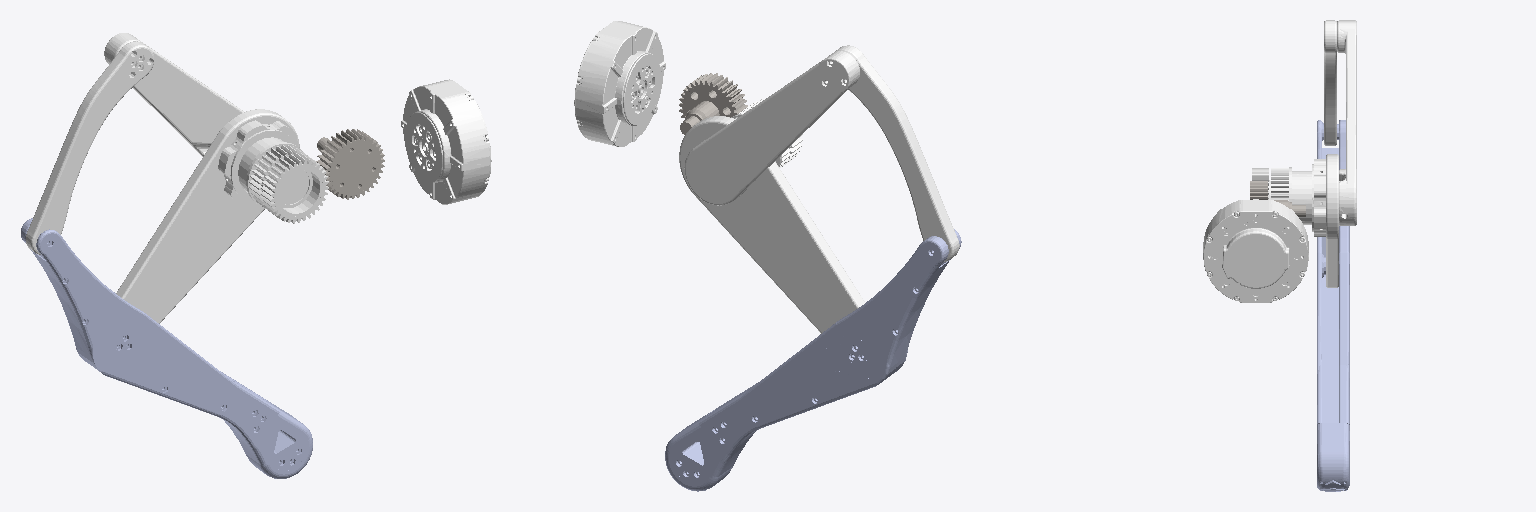
The robot description file, URDF, robot "mos_leg52":
<?xml version="1.0" encoding="utf-8"?>
<!-- This URDF was automatically created by SolidWorks to URDF Exporter! Originally created by Stephen Brawner (brawner@gmail.com) 
     Commit Version: 1.6.0-4-g7f85cfe  Build Version: 1.6.7995.38578
     For more information, please see http://wiki.ros.org/sw_urdf_exporter -->
<robot
  name="mos_leg52">
  <link
    name="hip_motor">
    <inertial>
      <origin
        xyz="0.0194551261869284 -0.0930459309938858 -0.146452078309495"
        rpy="0 0 0" />
      <mass
        value="0.193691933258788" />
      <inertia
        ixx="0.000212643438550046"
        ixy="2.52842936395281E-08"
        ixz="-3.06353262610582E-08"
        iyy="0.000111361590772375"
        iyz="-3.62933690347613E-07"
        izz="0.000115174940649883" />
    </inertial>
    <visual>
      <origin
        xyz="0 0 0"
        rpy="0 0 0" />
      <geometry>
        <mesh
          filename="package://mos_leg52/meshes/hip_motor.STL" />
      </geometry>
      <material
        name="">
        <color
          rgba="1 1 1 1" />
      </material>
    </visual>
    <collision>
      <origin
        xyz="0 0 0"
        rpy="0 0 0" />
      <geometry>
        <mesh
          filename="package://mos_leg52/meshes/hip_motor.STL" />
      </geometry>
    </collision>
  </link>
  <link
    name="hip_body">
    <inertial>
      <origin
        xyz="0.113371883083302 -0.00893173409427045 -0.000142723342939716"
        rpy="0 0 0" />
      <mass
        value="0.994407565035914" />
      <inertia
        ixx="0.000920741947553536"
        ixy="5.94775043380676E-08"
        ixz="-1.41358307758304E-07"
        iyy="0.00266050233065784"
        iyz="-3.88325839119094E-07"
        izz="0.00208351372160785" />
    </inertial>
    <visual>
      <origin
        xyz="0 0 0"
        rpy="0 0 0" />
      <geometry>
        <mesh
          filename="package://mos_leg52/meshes/hip_body.STL" />
      </geometry>
      <material
        name="">
        <color
          rgba="1 1 1 1" />
      </material>
    </visual>
    <collision>
      <origin
        xyz="0 0 0"
        rpy="0 0 0" />
      <geometry>
        <mesh
          filename="package://mos_leg52/meshes/hip_body.STL" />
      </geometry>
    </collision>
  </link>
  <joint
    name="hip_joint"
    type="revolute">
    <origin
      xyz="-0.232 -0.093114 -0.14635"
      rpy="0 0 0" />
    <parent
      link="hip_motor" />
    <child
      link="hip_body" />
    <axis
      xyz="-1 0 0" />
    <limit
      lower="-0.5"
      upper="0.5"
      effort="30"
      velocity="3" />
  </joint>
  <link
    name="front_gear">
    <inertial>
      <origin
        xyz="-8.19205814295287E-14 -0.0390538870170614 7.99638133486269E-14"
        rpy="0 0 0" />
      <mass
        value="0.0385237466196058" />
      <inertia
        ixx="9.47389810508479E-06"
        ixy="7.24105232570262E-22"
        ixz="1.58246759764786E-21"
        iyy="1.02723402754827E-05"
        iyz="1.41942209438922E-21"
        izz="9.47389810508481E-06" />
    </inertial>
    <visual>
      <origin
        xyz="0 0 0"
        rpy="0 0 0" />
      <geometry>
        <mesh
          filename="package://mos_leg52/meshes/front_gear.STL" />
      </geometry>
      <material
        name="">
        <color
          rgba="0.776470588235294 0.756862745098039 0.737254901960784 1" />
      </material>
    </visual>
    <collision>
      <origin
        xyz="0 0 0"
        rpy="0 0 0" />
      <geometry>
        <mesh
          filename="package://mos_leg52/meshes/front_gear.STL" />
      </geometry>
    </collision>
  </link>
  <joint
    name="font_gear"
    type="revolute">
    <origin
      xyz="0.166 0.04615 0"
      rpy="0 0 0" />
    <parent
      link="hip_body" />
    <child
      link="front_gear" />
    <axis
      xyz="0 1 0" />
    <limit
      lower="-0.5"
      upper="0.5"
      effort="0"
      velocity="0" />
  </joint>
  <link
    name="rear_gear">
    <inertial>
      <origin
        xyz="-1.11022302462516E-15 -0.0303984035950163 1.79856129989275E-14"
        rpy="0 0 0" />
      <mass
        value="0.0482357390578153" />
      <inertia
        ixx="1.0744281957417E-05"
        ixy="2.99541972605816E-21"
        ixz="5.71319065723848E-21"
        iyy="1.25106445892168E-05"
        iyz="8.50480753893855E-22"
        izz="1.0744281957417E-05" />
    </inertial>
    <visual>
      <origin
        xyz="0 0 0"
        rpy="0 0 0" />
      <geometry>
        <mesh
          filename="package://mos_leg52/meshes/rear_gear.STL" />
      </geometry>
      <material
        name="">
        <color
          rgba="0.792156862745098 0.819607843137255 0.933333333333333 1" />
      </material>
    </visual>
    <collision>
      <origin
        xyz="0 0 0"
        rpy="0 0 0" />
      <geometry>
        <mesh
          filename="package://mos_leg52/meshes/rear_gear.STL" />
      </geometry>
    </collision>
  </link>
  <joint
    name="rear_gear"
    type="revolute">
    <origin
      xyz="0.066 0.04615 0"
      rpy="0 0 0" />
    <parent
      link="hip_body" />
    <child
      link="rear_gear" />
    <axis
      xyz="0 1 0" />
    <limit
      lower="-0.5"
      upper="0.5"
      effort="0"
      velocity="0" />
  </joint>
  <link
    name="thigh">
    <inertial>
      <origin
        xyz="-0.0334363727266321 -0.00646320958539248 -0.0337832583179401"
        rpy="0 0 0" />
      <mass
        value="0.218415882803044" />
      <inertia
        ixx="0.000380276473573837"
        ixy="1.02303283100001E-05"
        ixz="-0.000289516209462419"
        iyy="0.000728917906995597"
        iyz="1.03364673598469E-05"
        izz="0.000374299610045337" />
    </inertial>
    <visual>
      <origin
        xyz="0 0 0"
        rpy="0 0 0" />
      <geometry>
        <mesh
          filename="package://mos_leg52/meshes/thigh.STL" />
      </geometry>
      <material
        name="">
        <color
          rgba="1 1 1 1" />
      </material>
    </visual>
    <collision>
      <origin
        xyz="0 0 0"
        rpy="0 0 0" />
      <geometry>
        <mesh
          filename="package://mos_leg52/meshes/thigh.STL" />
      </geometry>
    </collision>
  </link>
  <joint
    name="thigh_gear"
    type="revolute">
    <origin
      xyz="0.116 0.06815 -0.0101"
      rpy="0 0 0" />
    <parent
      link="hip_body" />
    <child
      link="thigh" />
    <axis
      xyz="0 -1 0" />
    <limit
      lower="-1"
      upper="1"
      effort="30"
      velocity="3" />
  </joint>
  <link
    name="shank">
    <inertial>
      <origin
        xyz="0.0501963925591364 -0.014021075126307 -0.0375583634802569"
        rpy="0 0 0" />
      <mass
        value="0.286222361372181" />
      <inertia
        ixx="0.000651861312520624"
        ixy="-9.07604969125879E-07"
        ixz="0.000598089415604459"
        iyy="0.00130942075503528"
        iyz="8.1610237014393E-07"
        izz="0.00067312796935984" />
    </inertial>
    <visual>
      <origin
        xyz="0 0 0"
        rpy="0 0 0" />
      <geometry>
        <mesh
          filename="package://mos_leg52/meshes/shank.STL" />
      </geometry>
      <material
        name="">
        <color
          rgba="0.792156862745098 0.819607843137255 0.933333333333333 1" />
      </material>
    </visual>
    <collision>
      <origin
        xyz="0 0 0"
        rpy="0 0 0" />
      <geometry>
        <mesh
          filename="package://mos_leg52/meshes/shank.STL" />
      </geometry>
    </collision>
  </link>
  <joint
    name="shank_middle"
    type="continuous">
    <origin
      xyz="-0.1228 0.017496 -0.13116"
      rpy="0 0 0" />
    <parent
      link="thigh" />
    <child
      link="shank" />
    <axis
      xyz="0 -1 0" />
  </joint>
  <link
    name="shank_gear">
    <inertial>
      <origin
        xyz="-0.0305539081874453 -0.0151800390635337 0.031163163347574"
        rpy="0 0 0" />
      <mass
        value="0.171587734867677" />
      <inertia
        ixx="0.000249660019311512"
        ixy="4.99779954636463E-06"
        ixz="0.000197761556978693"
        iyy="0.000443409187193008"
        iyz="-5.08968268380678E-06"
        izz="0.000243414619824575" />
    </inertial>
    <visual>
      <origin
        xyz="0 0 0"
        rpy="0 0 0" />
      <geometry>
        <mesh
          filename="package://mos_leg52/meshes/shank_gear.STL" />
      </geometry>
      <material
        name="">
        <color
          rgba="1 1 1 1" />
      </material>
    </visual>
    <collision>
      <origin
        xyz="0 0 0"
        rpy="0 0 0" />
      <geometry>
        <mesh
          filename="package://mos_leg52/meshes/shank_gear.STL" />
      </geometry>
    </collision>
  </link>
  <joint
    name="shank_gear"
    type="revolute">
    <origin
      xyz="0.116 0.08715 -0.0101"
      rpy="0 0 0" />
    <parent
      link="hip_body" />
    <child
      link="shank_gear" />
    <axis
      xyz="0 1 0" />
    <limit
      lower="-1"
      upper="1"
      effort="30"
      velocity="3" />
  </joint>
  <link
    name="shank_link">
    <inertial>
      <origin
        xyz="-0.0443711312726687 -0.0128234647134589 -0.0571719050658156"
        rpy="0 0 0" />
      <mass
        value="0.0469428664864404" />
      <inertia
        ixx="9.71589752924468E-05"
        ixy="-3.64701280979704E-07"
        ixz="-5.7991885497864E-05"
        iyy="0.000135916178702011"
        iyz="-4.70048453048693E-07"
        izz="3.99674340458002E-05" />
    </inertial>
    <visual>
      <origin
        xyz="0 0 0"
        rpy="0 0 0" />
      <geometry>
        <mesh
          filename="package://mos_leg52/meshes/shank_link.STL" />
      </geometry>
      <material
        name="">
        <color
          rgba="1 1 1 1" />
      </material>
    </visual>
    <collision>
      <origin
        xyz="0 0 0"
        rpy="0 0 0" />
      <geometry>
        <mesh
          filename="package://mos_leg52/meshes/shank_link.STL" />
      </geometry>
    </collision>
  </link>
  <joint
    name="shank_link"
    type="continuous">
    <origin
      xyz="-0.10965 -0.0060044 0.1115"
      rpy="0 0 0" />
    <parent
      link="shank_gear" />
    <child
      link="shank_link" />
    <axis
      xyz="0 1 0" />
  </joint>
</robot>

--- What the picture shows (computed from the rendered views, not written in the file) ---
3 views of the same robot in one strip: view 1: azimuth 30°, elevation 25°; view 2: azimuth 150°, elevation 25°; view 3: azimuth 270°, elevation 25° (orthographic).
Robot: mos_leg52 — 8 links, 7 joints (5 revolute, 2 continuous); root link hip_motor; default pose: all joints at 0.
Links seen in each view (by area): view 1: shank, thigh, shank_gear, hip_motor, shank_link, front_gear; view 2: shank, thigh, shank_gear, hip_motor, shank_link, front_gear; view 3: hip_motor, shank, thigh, shank_gear, shank_link, front_gear.
Boxes of the visible links, left/top/right/bottom form: shank: left=21, top=218, right=312, bottom=478; thigh: left=116, top=109, right=308, bottom=323; shank_gear: left=104, top=33, right=328, bottom=223; hip_motor: left=401, top=79, right=491, bottom=204; shank_link: left=26, top=41, right=153, bottom=254; front_gear: left=316, top=129, right=384, bottom=199; shank: left=665, top=229, right=961, bottom=491; thigh: left=679, top=107, right=864, bottom=333; shank_gear: left=684, top=51, right=859, bottom=205; hip_motor: left=574, top=21, right=665, bottom=146; shank_link: left=835, top=45, right=959, bottom=261; front_gear: left=679, top=73, right=747, bottom=134; hip_motor: left=1203, top=199, right=1308, bottom=302; shank: left=1317, top=120, right=1349, bottom=491; thigh: left=1271, top=154, right=1338, bottom=287; shank_gear: left=1252, top=20, right=1356, bottom=225; shank_link: left=1324, top=20, right=1336, bottom=145; front_gear: left=1250, top=181, right=1305, bottom=216.
Bounding box of the posed robot: 0.366 × 0.1404 × 0.4094 m (x, y, z).
Meshes: 8 distinct files referenced, 6 mesh visuals loaded (6 binary STL); not drawn: 2 (reference not matched to a file when rendering).
